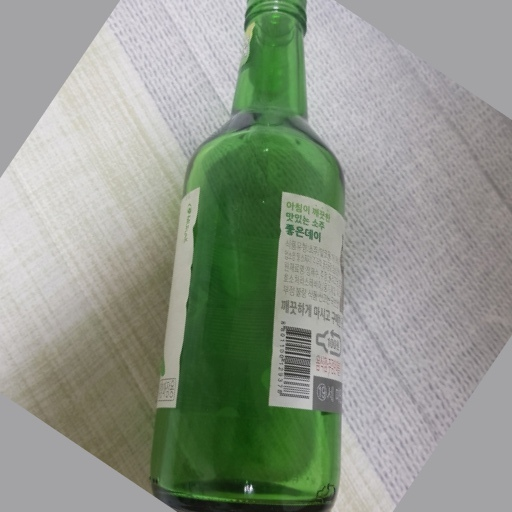Glass_0: (151, 5, 349, 512)
